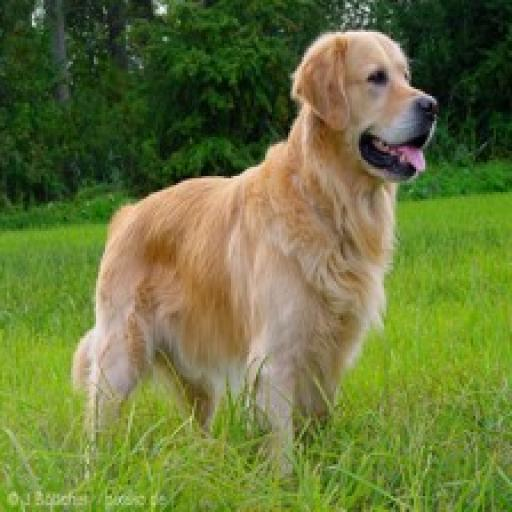dog: (54, 24, 448, 485)
